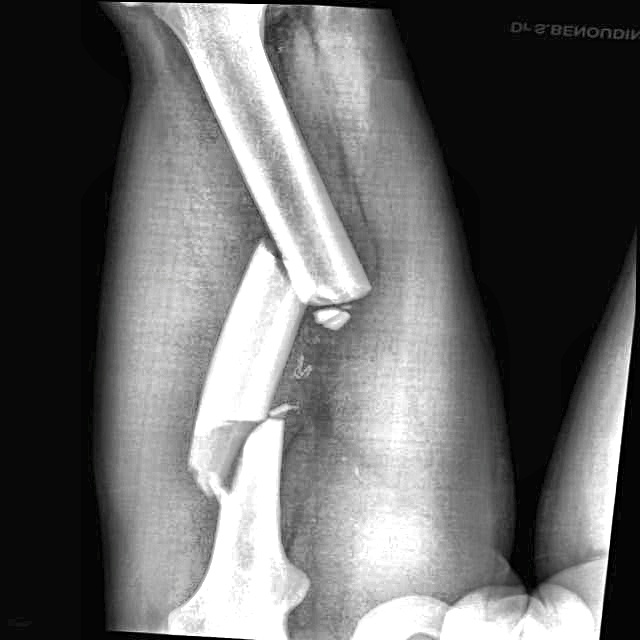Segmental: (126, 214, 390, 517)
